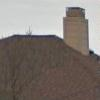Chimney: (58, 2, 100, 60)
